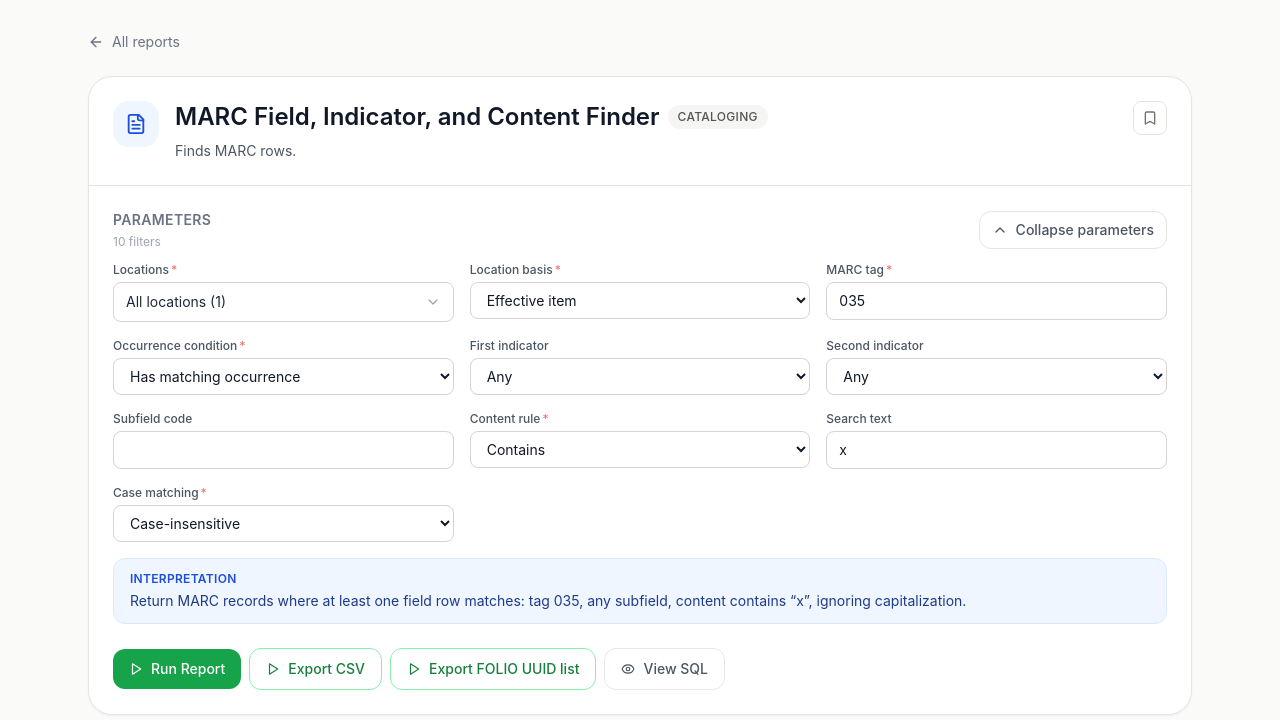
Test: Reports › places API field errors beside finder controls and clears them on edit
This screenshot has width=1280, height=720.
Click the button "Run Report" at [177, 669], box left=113, top=649, right=241, bottom=689
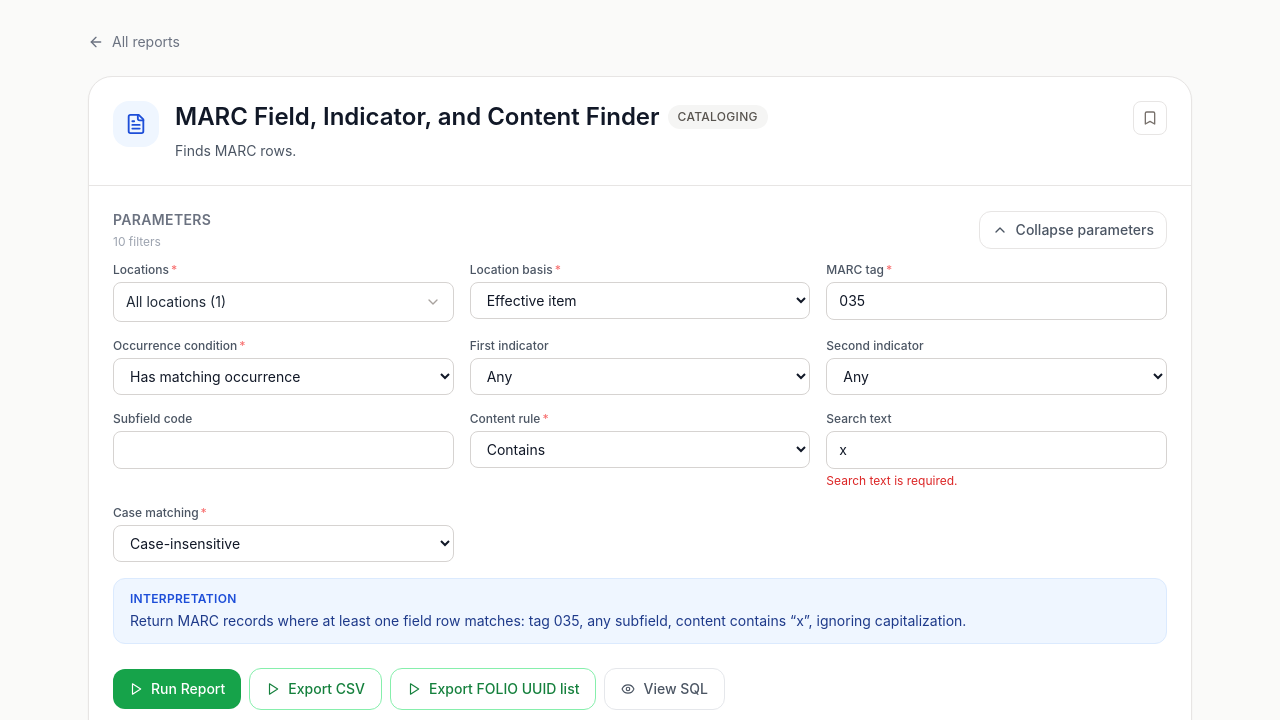
Check: the text "Search text is required." is shown, box left=826, top=473, right=958, bottom=488
Replace the text in the field labelled "Search text" with "updated" at [997, 450], box left=826, top=431, right=1167, bottom=469
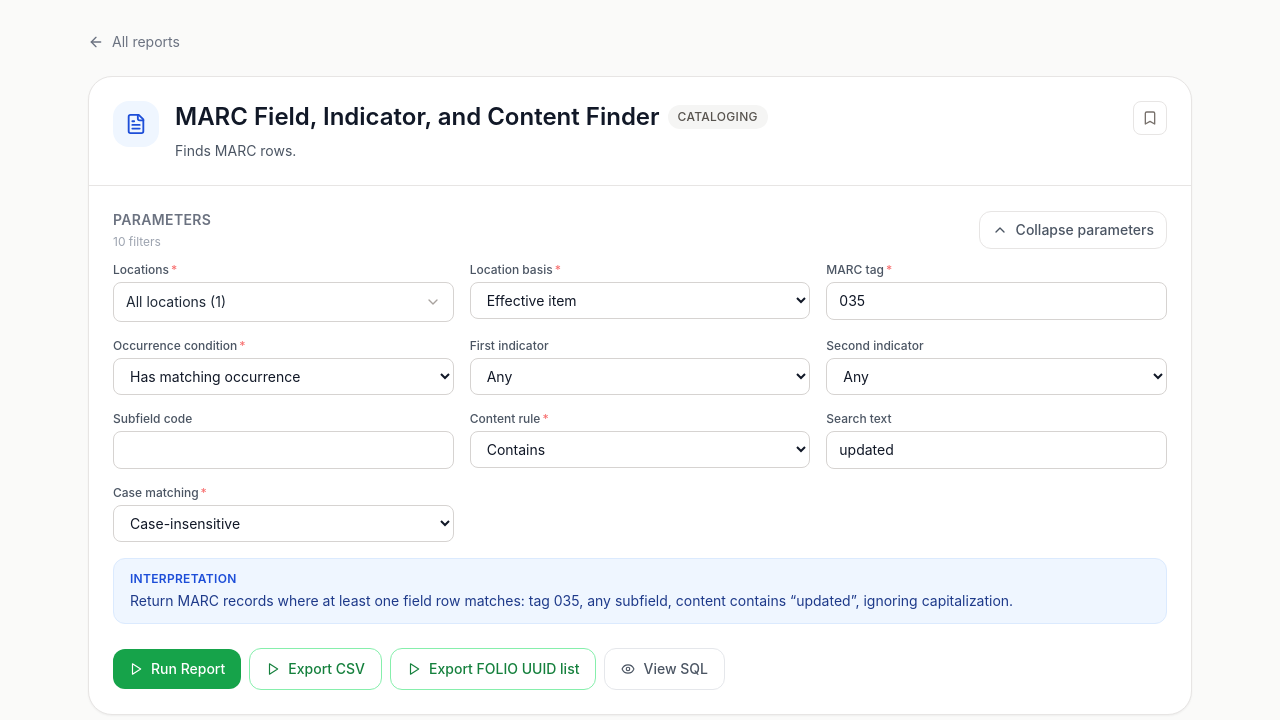
Check: the text "Search text is required." is gone
